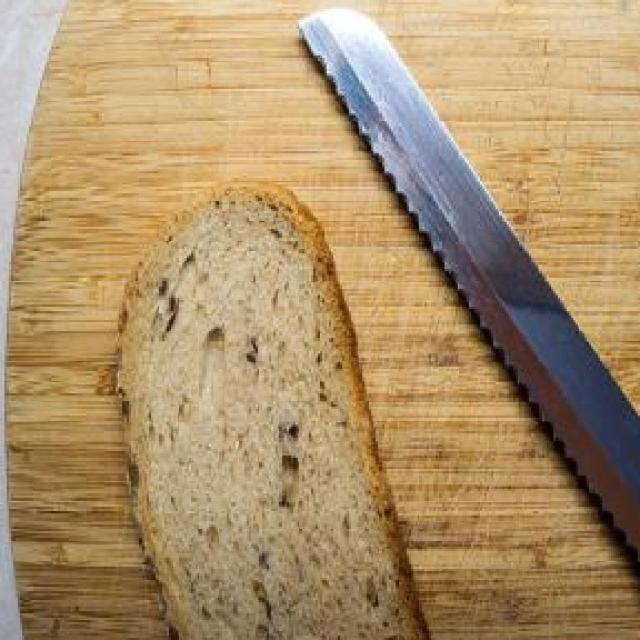knife: (300, 0, 640, 589)
